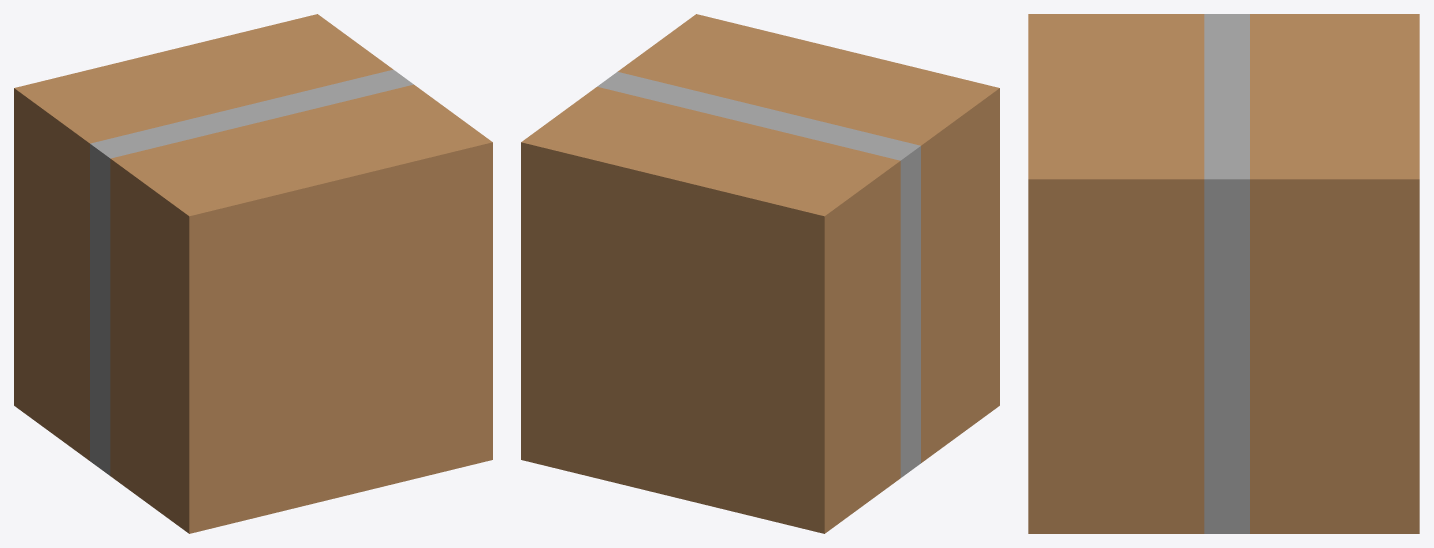
File: CubeBox.glb
3 renders of one model, left to right at view 1: azimuth 30°, elevation 25°; view 2: azimuth 150°, elevation 25°; view 3: azimuth 270°, elevation 25°, orthographic. The views are drawn at different scales.
Parts seen in each view (by area): view 1: Cube; view 2: Cube; view 3: Cube.
Part boxes in pixels (x1,y1,x2,y2): Cube: (14,14,492,533); Cube: (521,14,999,533); Cube: (1028,14,1419,533).
Size of the model in its own units: 1 by 1 by 1.
